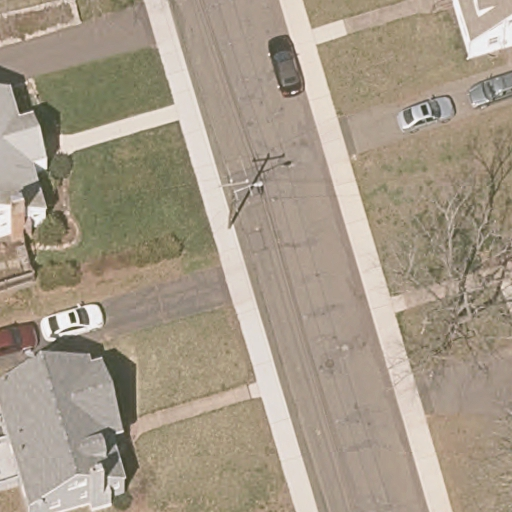DT: (218, 172, 263, 229)
